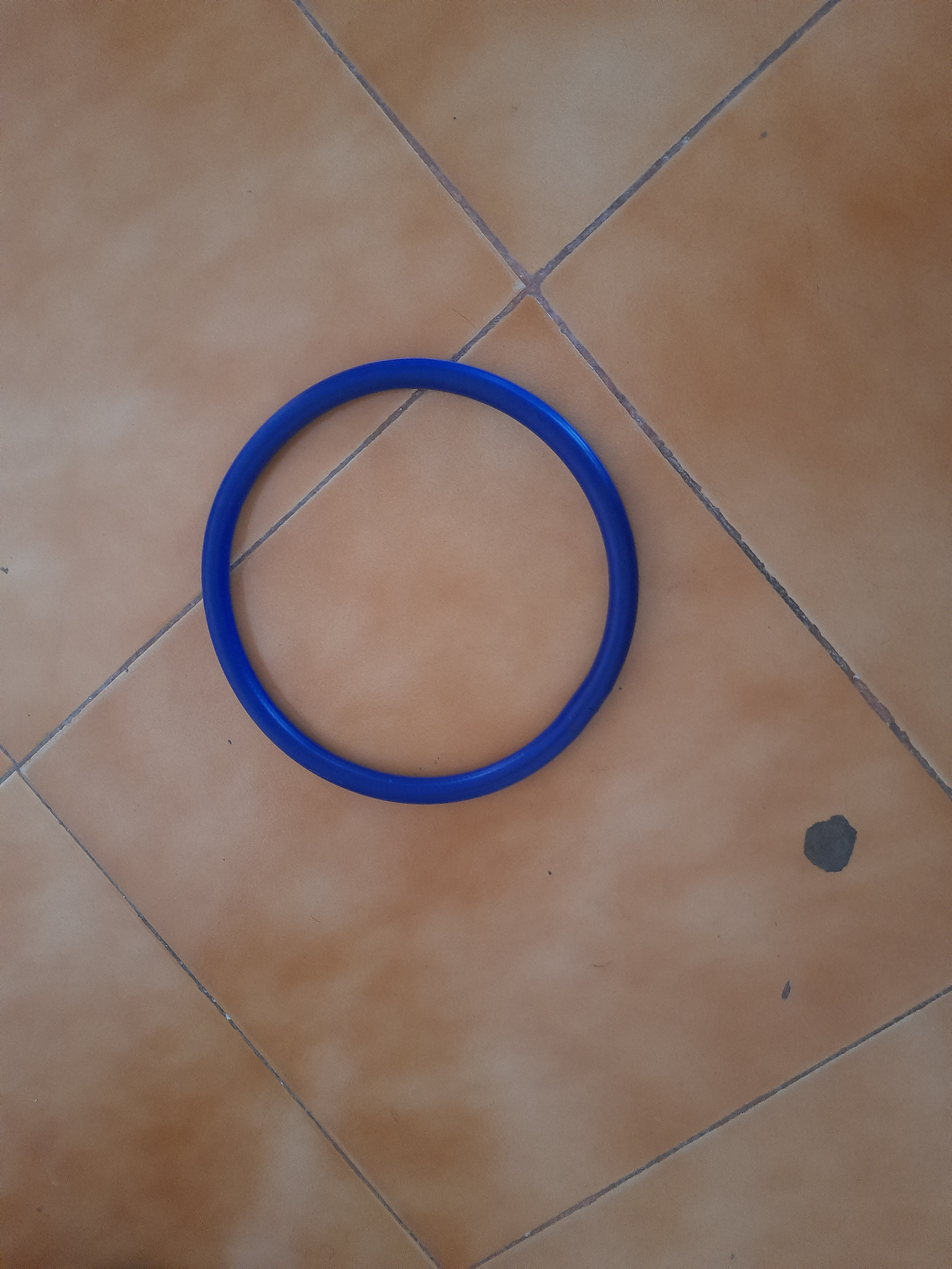Blue ring: (201, 359, 643, 806)
